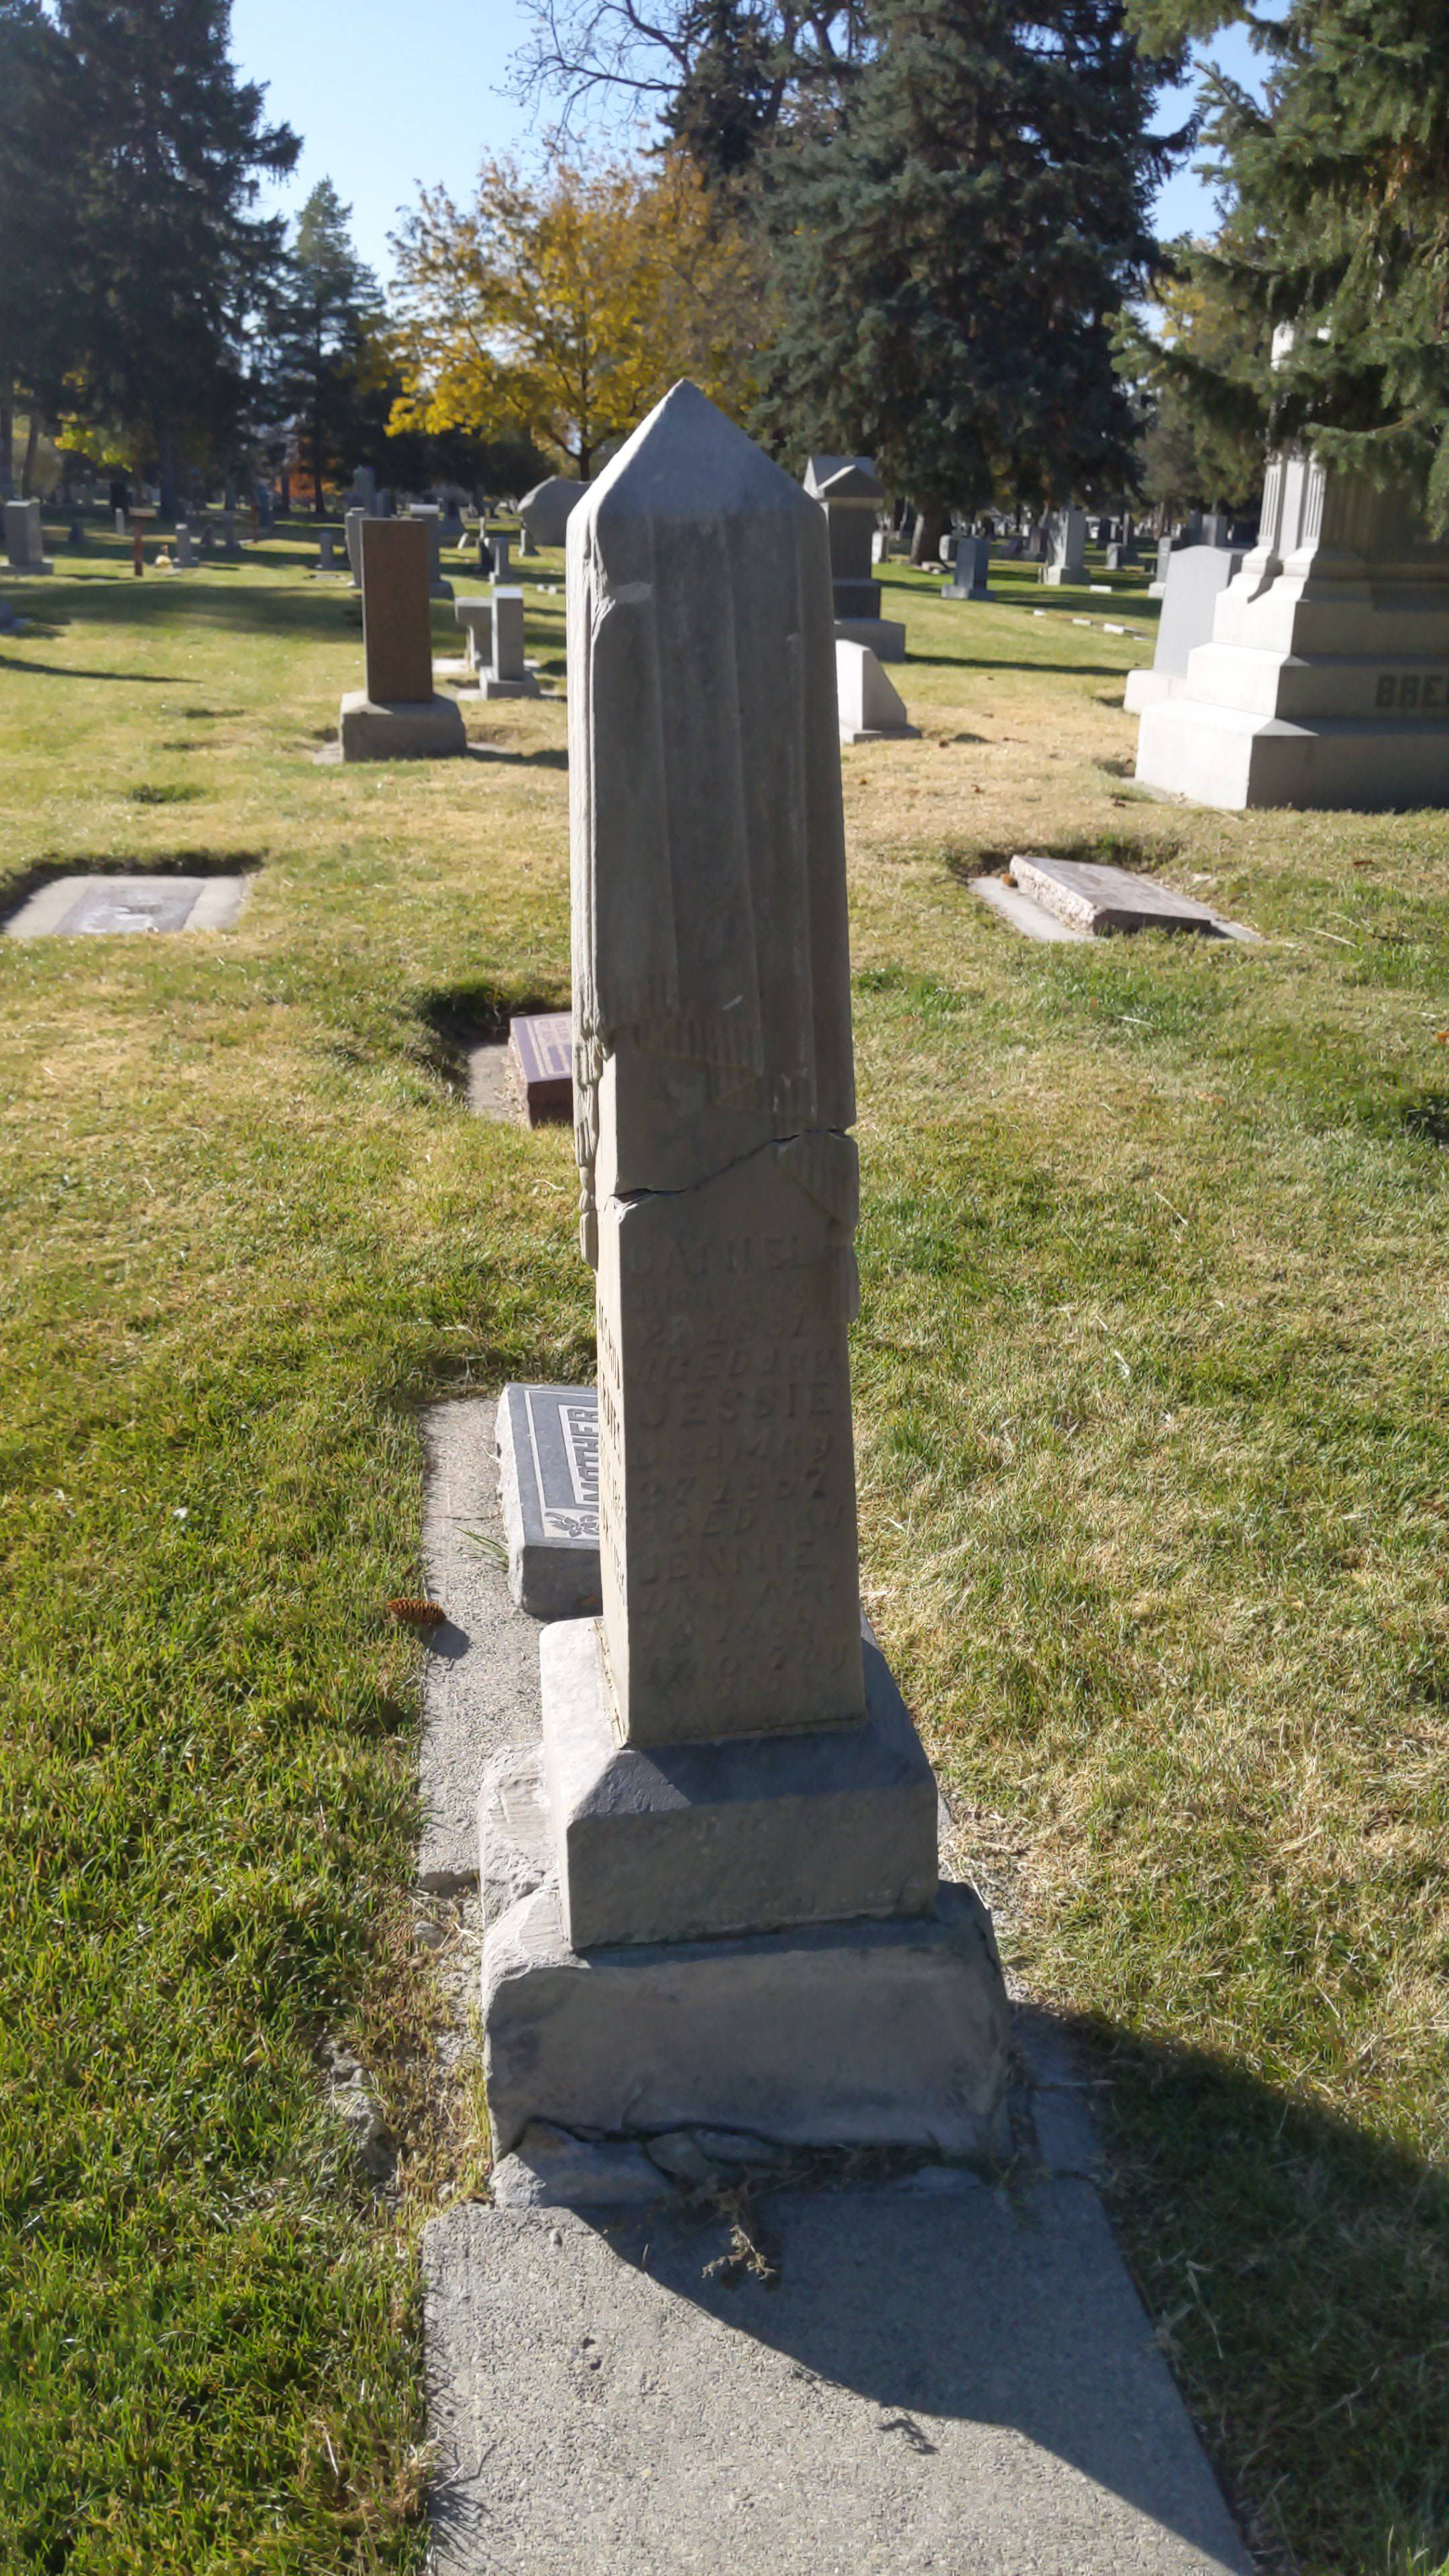obelisk: (538, 396, 927, 1951)
